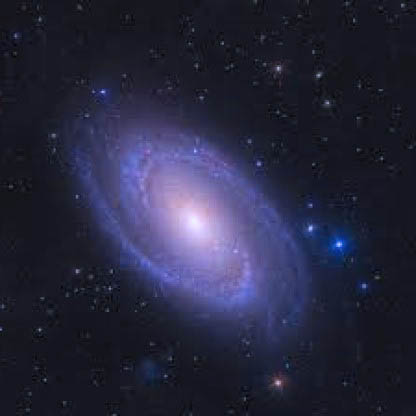Messier 81: (61, 89, 373, 377)
